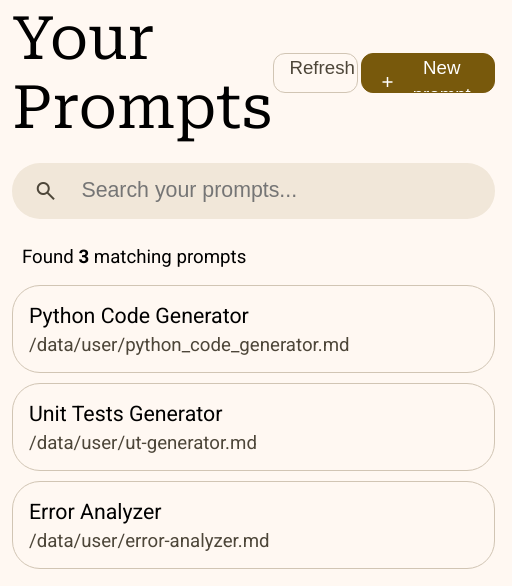
Test: browsing prompts › only prompts whose titles include search query should be visible on screen after submit
Type "Gen" into the field at (279, 191), box [79, 163, 479, 219]
Then press Enter
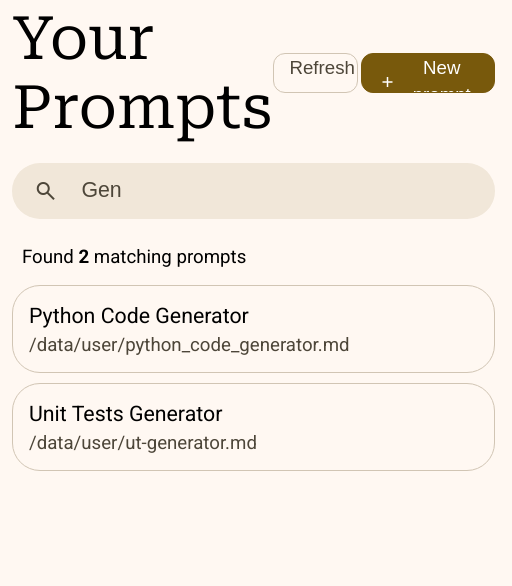
Expected: the number of list items is 2, [12, 285, 495, 373]; [12, 383, 495, 471]
